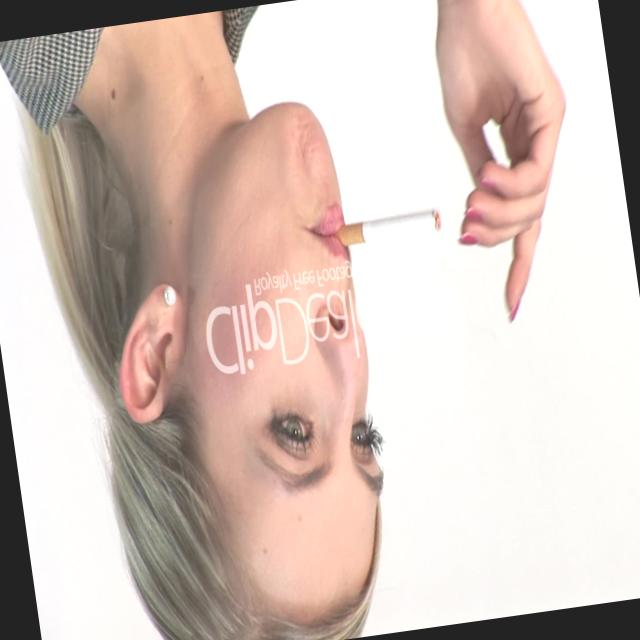cigarette: (354, 203, 443, 252)
